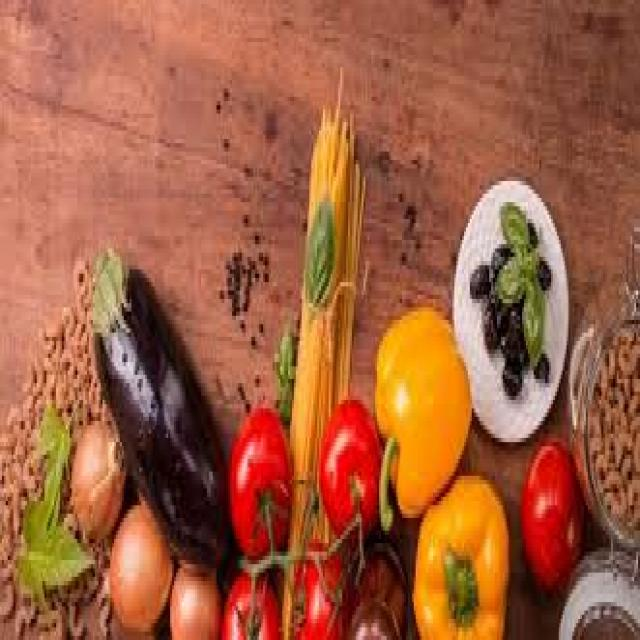organic waste: (276, 59, 362, 636), (87, 244, 226, 573), (371, 299, 470, 522), (410, 467, 508, 636), (520, 434, 580, 594), (228, 404, 290, 556), (590, 328, 638, 518), (317, 396, 381, 535), (13, 493, 91, 602), (106, 501, 170, 632), (493, 194, 543, 358), (64, 253, 104, 417), (70, 417, 122, 539), (290, 539, 344, 636), (167, 552, 220, 636), (29, 312, 77, 404), (218, 564, 278, 636), (35, 396, 71, 509), (0, 396, 35, 492), (304, 198, 334, 299), (12, 594, 79, 636), (272, 324, 296, 417), (0, 489, 14, 602), (499, 294, 522, 354), (238, 244, 255, 324), (224, 244, 242, 316), (488, 236, 510, 282), (479, 295, 499, 345), (532, 253, 553, 286), (468, 253, 487, 286), (532, 349, 555, 375), (501, 354, 520, 383), (238, 375, 253, 408), (400, 194, 416, 223), (524, 215, 534, 257), (259, 248, 271, 278), (215, 278, 224, 307), (253, 366, 259, 379)
